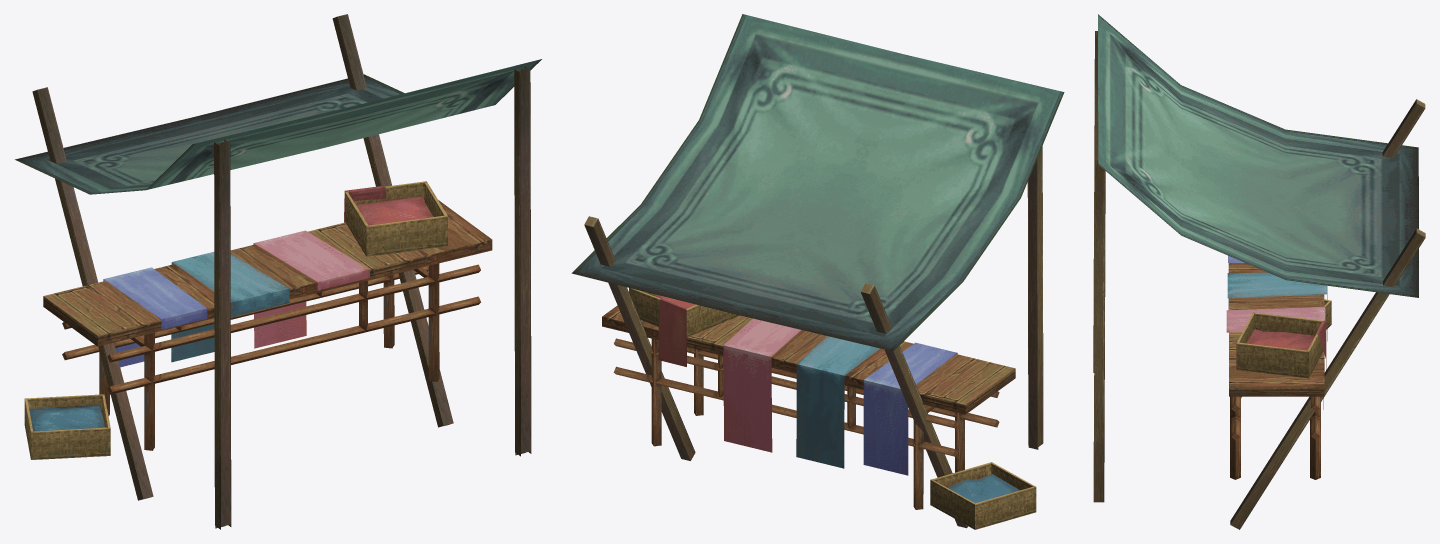
The model's file is 1004_Item_tanzi_1.FBX.
3 views of the same model, side by side, from view 1: azimuth 30°, elevation 25°; view 2: azimuth 150°, elevation 25°; view 3: azimuth 270°, elevation 25° (orthographic). The views are drawn at different scales.
Parts seen in each view (by area): view 1: 1004_Item_tanzi_1; view 2: 1004_Item_tanzi_1; view 3: 1004_Item_tanzi_1.
Part boxes in pixels (x1,y1,x2,y2): 1004_Item_tanzi_1: [15, 14, 541, 529]; 1004_Item_tanzi_1: [571, 14, 1064, 529]; 1004_Item_tanzi_1: [1093, 14, 1425, 529].
Size of the model in its own units: 288 by 264 by 214.
